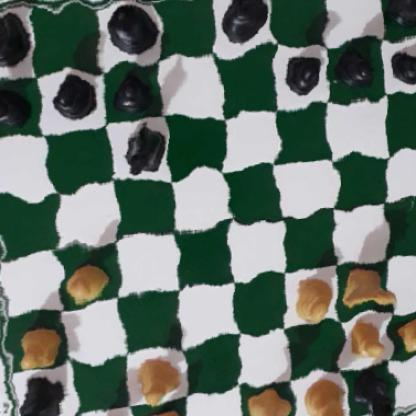black-bishop: (102, 8, 159, 58), (345, 362, 397, 416)
black-king: (217, 0, 275, 47)
black-knight: (119, 121, 164, 180)
black-pawn: (45, 74, 95, 127), (334, 43, 378, 90), (283, 48, 322, 94), (111, 69, 149, 116), (0, 83, 30, 131), (388, 43, 416, 88)
black-queen: (4, 371, 75, 416)
black-rook: (0, 2, 34, 74), (385, 0, 416, 26)
white-bishop: (299, 376, 345, 416), (138, 402, 188, 416)
white-king: (241, 382, 295, 416)
white-knight: (338, 256, 398, 317)
white-pawn: (11, 319, 64, 372), (131, 351, 183, 404), (62, 255, 111, 308), (339, 316, 388, 368), (289, 272, 332, 325), (399, 313, 416, 360)
white-rook: (74, 414, 131, 416)
